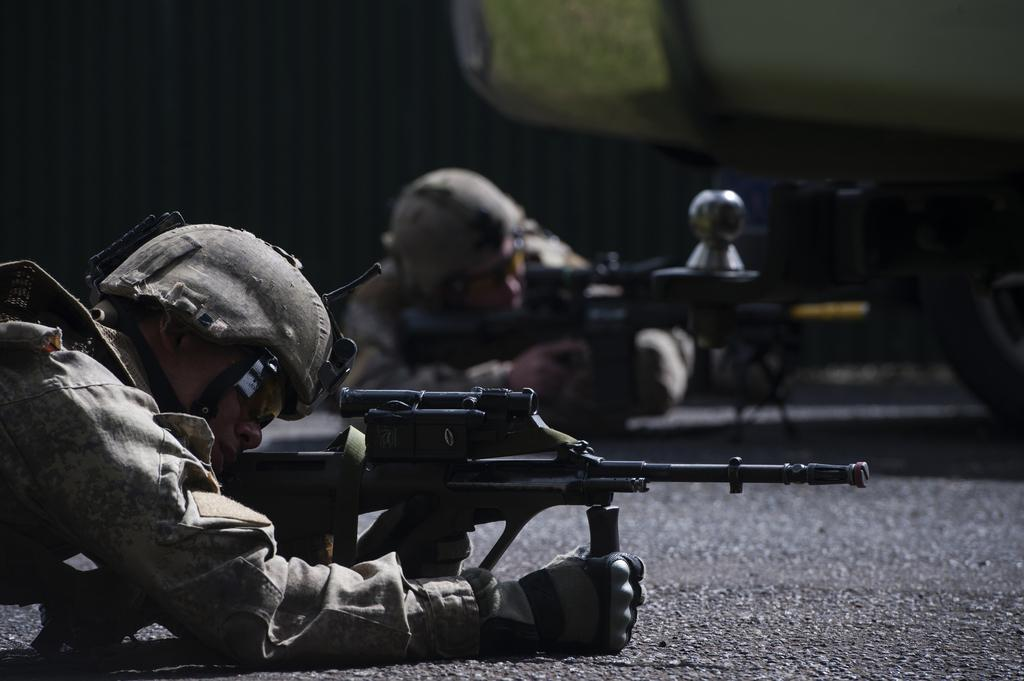Rifle: (381, 184, 875, 451), (218, 388, 868, 570)
